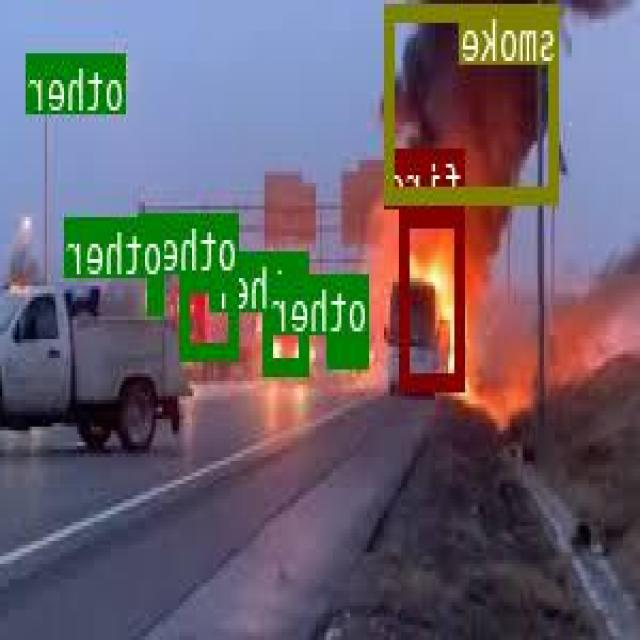fire: (402, 206, 467, 388)
other: (182, 272, 240, 356), (264, 310, 310, 370), (329, 332, 369, 362), (111, 52, 128, 78), (151, 278, 164, 310)
smoke: (387, 2, 560, 200)
